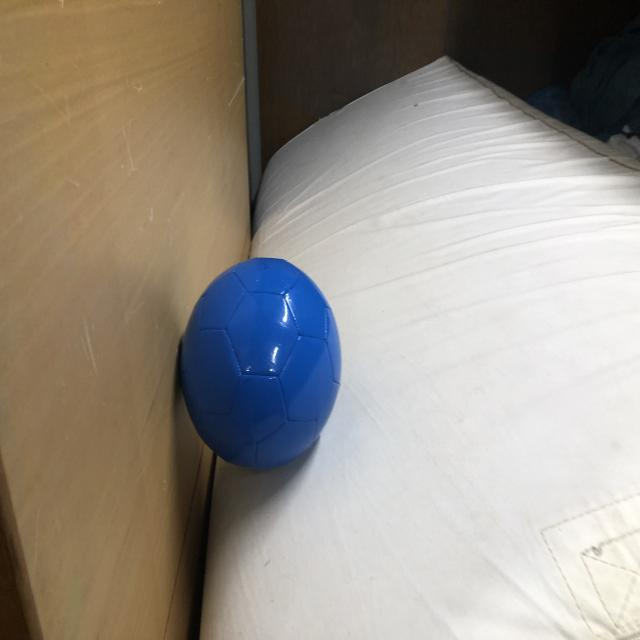blue_ball: (182, 257, 345, 483)
